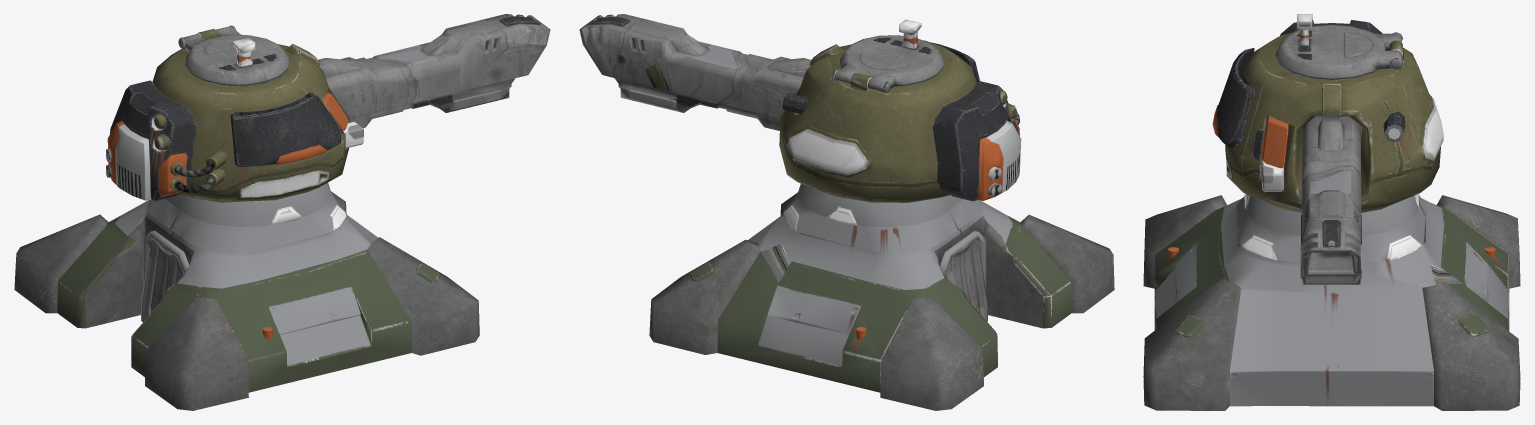
File: tower.fbx
The picture shows the model from 3 angles, left to right: view 1: azimuth 30°, elevation 25°; view 2: azimuth 150°, elevation 25°; view 3: azimuth 270°, elevation 25°; orthographic projection. The views are drawn at different scales.
Parts seen in each view (by area): view 1: tower_bottom, tower_round, tower_cannon, tower_amunition, tower_detail; view 2: tower_bottom, tower_round, tower_cannon, tower_amunition, tower_detail; view 3: tower_bottom, tower_round, tower_cannon, tower_detail, tower_laser, tower_amunition.
Part boxes in pixels (x1,y1,x2,y2): tower_bottom: [14, 182, 479, 410]; tower_round: [152, 26, 349, 202]; tower_cannon: [318, 14, 550, 127]; tower_amunition: [106, 80, 227, 200]; tower_detail: [178, 25, 363, 166]; tower_bottom: [649, 183, 1114, 410]; tower_round: [779, 35, 976, 202]; tower_cannon: [579, 14, 811, 130]; tower_amunition: [932, 80, 1021, 201]; tower_detail: [832, 19, 979, 93]; tower_bottom: [1143, 194, 1520, 410]; tower_round: [1225, 24, 1443, 212]; tower_cannon: [1300, 116, 1361, 285]; tower_detail: [1212, 14, 1403, 191]; tower_laser: [1384, 111, 1404, 142]; tower_amunition: [1280, 20, 1382, 35].
Size of the model in its own units: 980 by 606 by 668.
